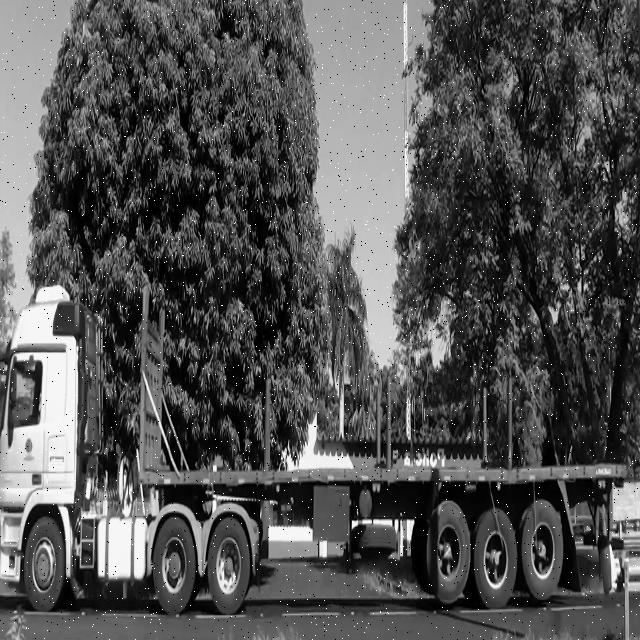-axle: (422, 500, 472, 604), (471, 508, 519, 610), (520, 495, 564, 601), (152, 514, 198, 615), (206, 516, 251, 618), (23, 514, 66, 614)
